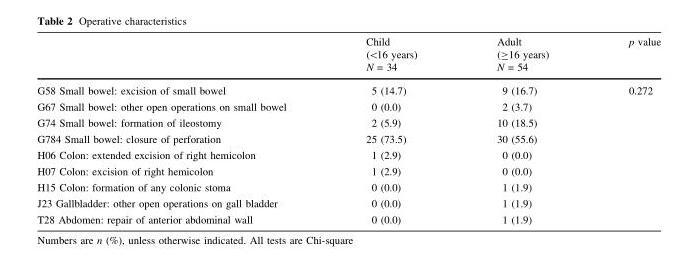table: (36, 36, 660, 224)
table column: (36, 36, 325, 224), (456, 36, 588, 224), (325, 36, 456, 224), (588, 36, 660, 224)
table column header: (36, 36, 660, 78)
table row: (36, 36, 660, 78), (36, 78, 660, 98), (36, 114, 660, 131), (36, 98, 660, 114), (36, 131, 660, 147), (36, 147, 660, 163), (36, 163, 660, 179), (36, 179, 660, 195), (36, 195, 660, 211), (36, 211, 660, 224)
